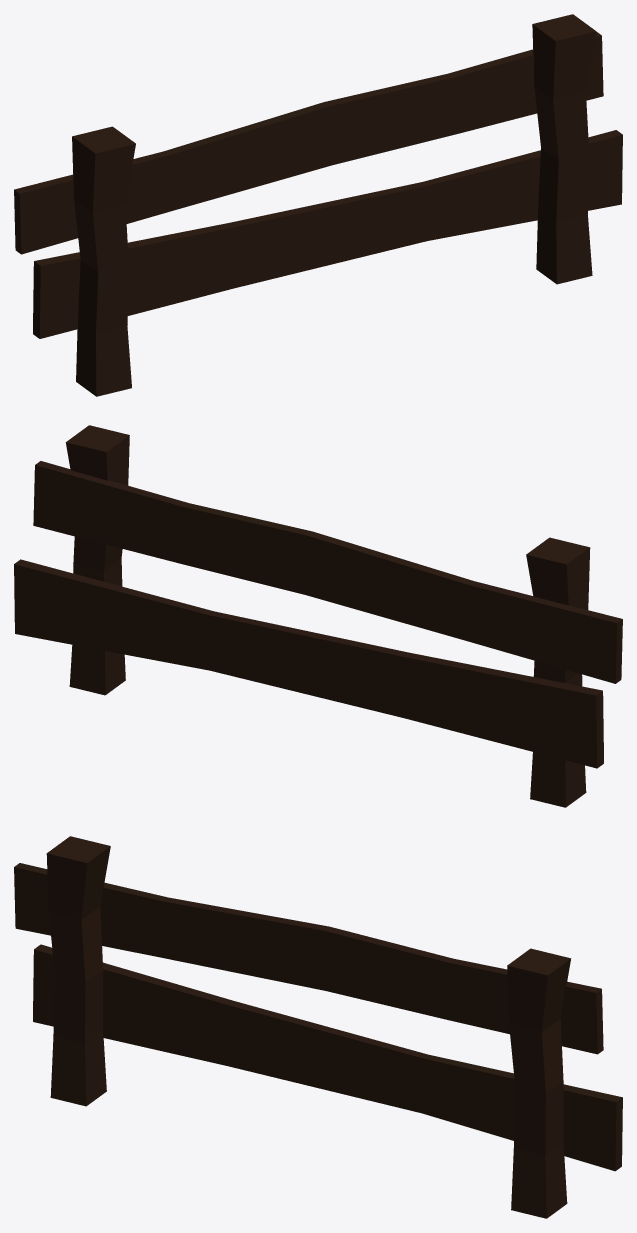
Rendered from fence2.obj.
3 views of the same model, one above another, from view 1: azimuth 30°, elevation 25°; view 2: azimuth 150°, elevation 25°; view 3: azimuth 330°, elevation 25° (orthographic).
Visible parts, largest first — view 1: Cube.007_Cube.012; view 2: Cube.007_Cube.012; view 3: Cube.007_Cube.012.
Part boxes in pixels (<box>): Cube.007_Cube.012: <box>14,14,622,396</box>; Cube.007_Cube.012: <box>14,425,622,807</box>; Cube.007_Cube.012: <box>14,836,622,1218</box>.
Bounding box in the file's own units: 5.17 × 2.01 × 0.4129.
